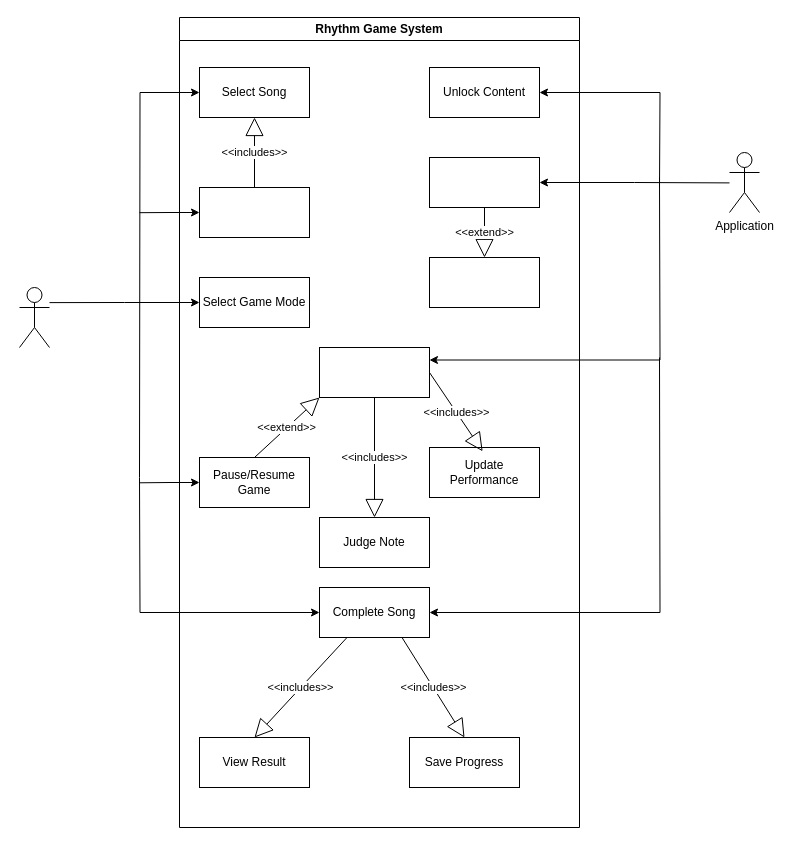
This 791x845 diagram has some shape labels left out. Here are the shapes that lost their labels. From the top down, the centre of each, then its label:
At pixel 484 182: "Load Progress".
At pixel 254 212: "Select Difficulty".
At pixel 484 282: "Handle Invalid Save".
At pixel 34 317: "Player".
At pixel 374 372: "Play Song".
